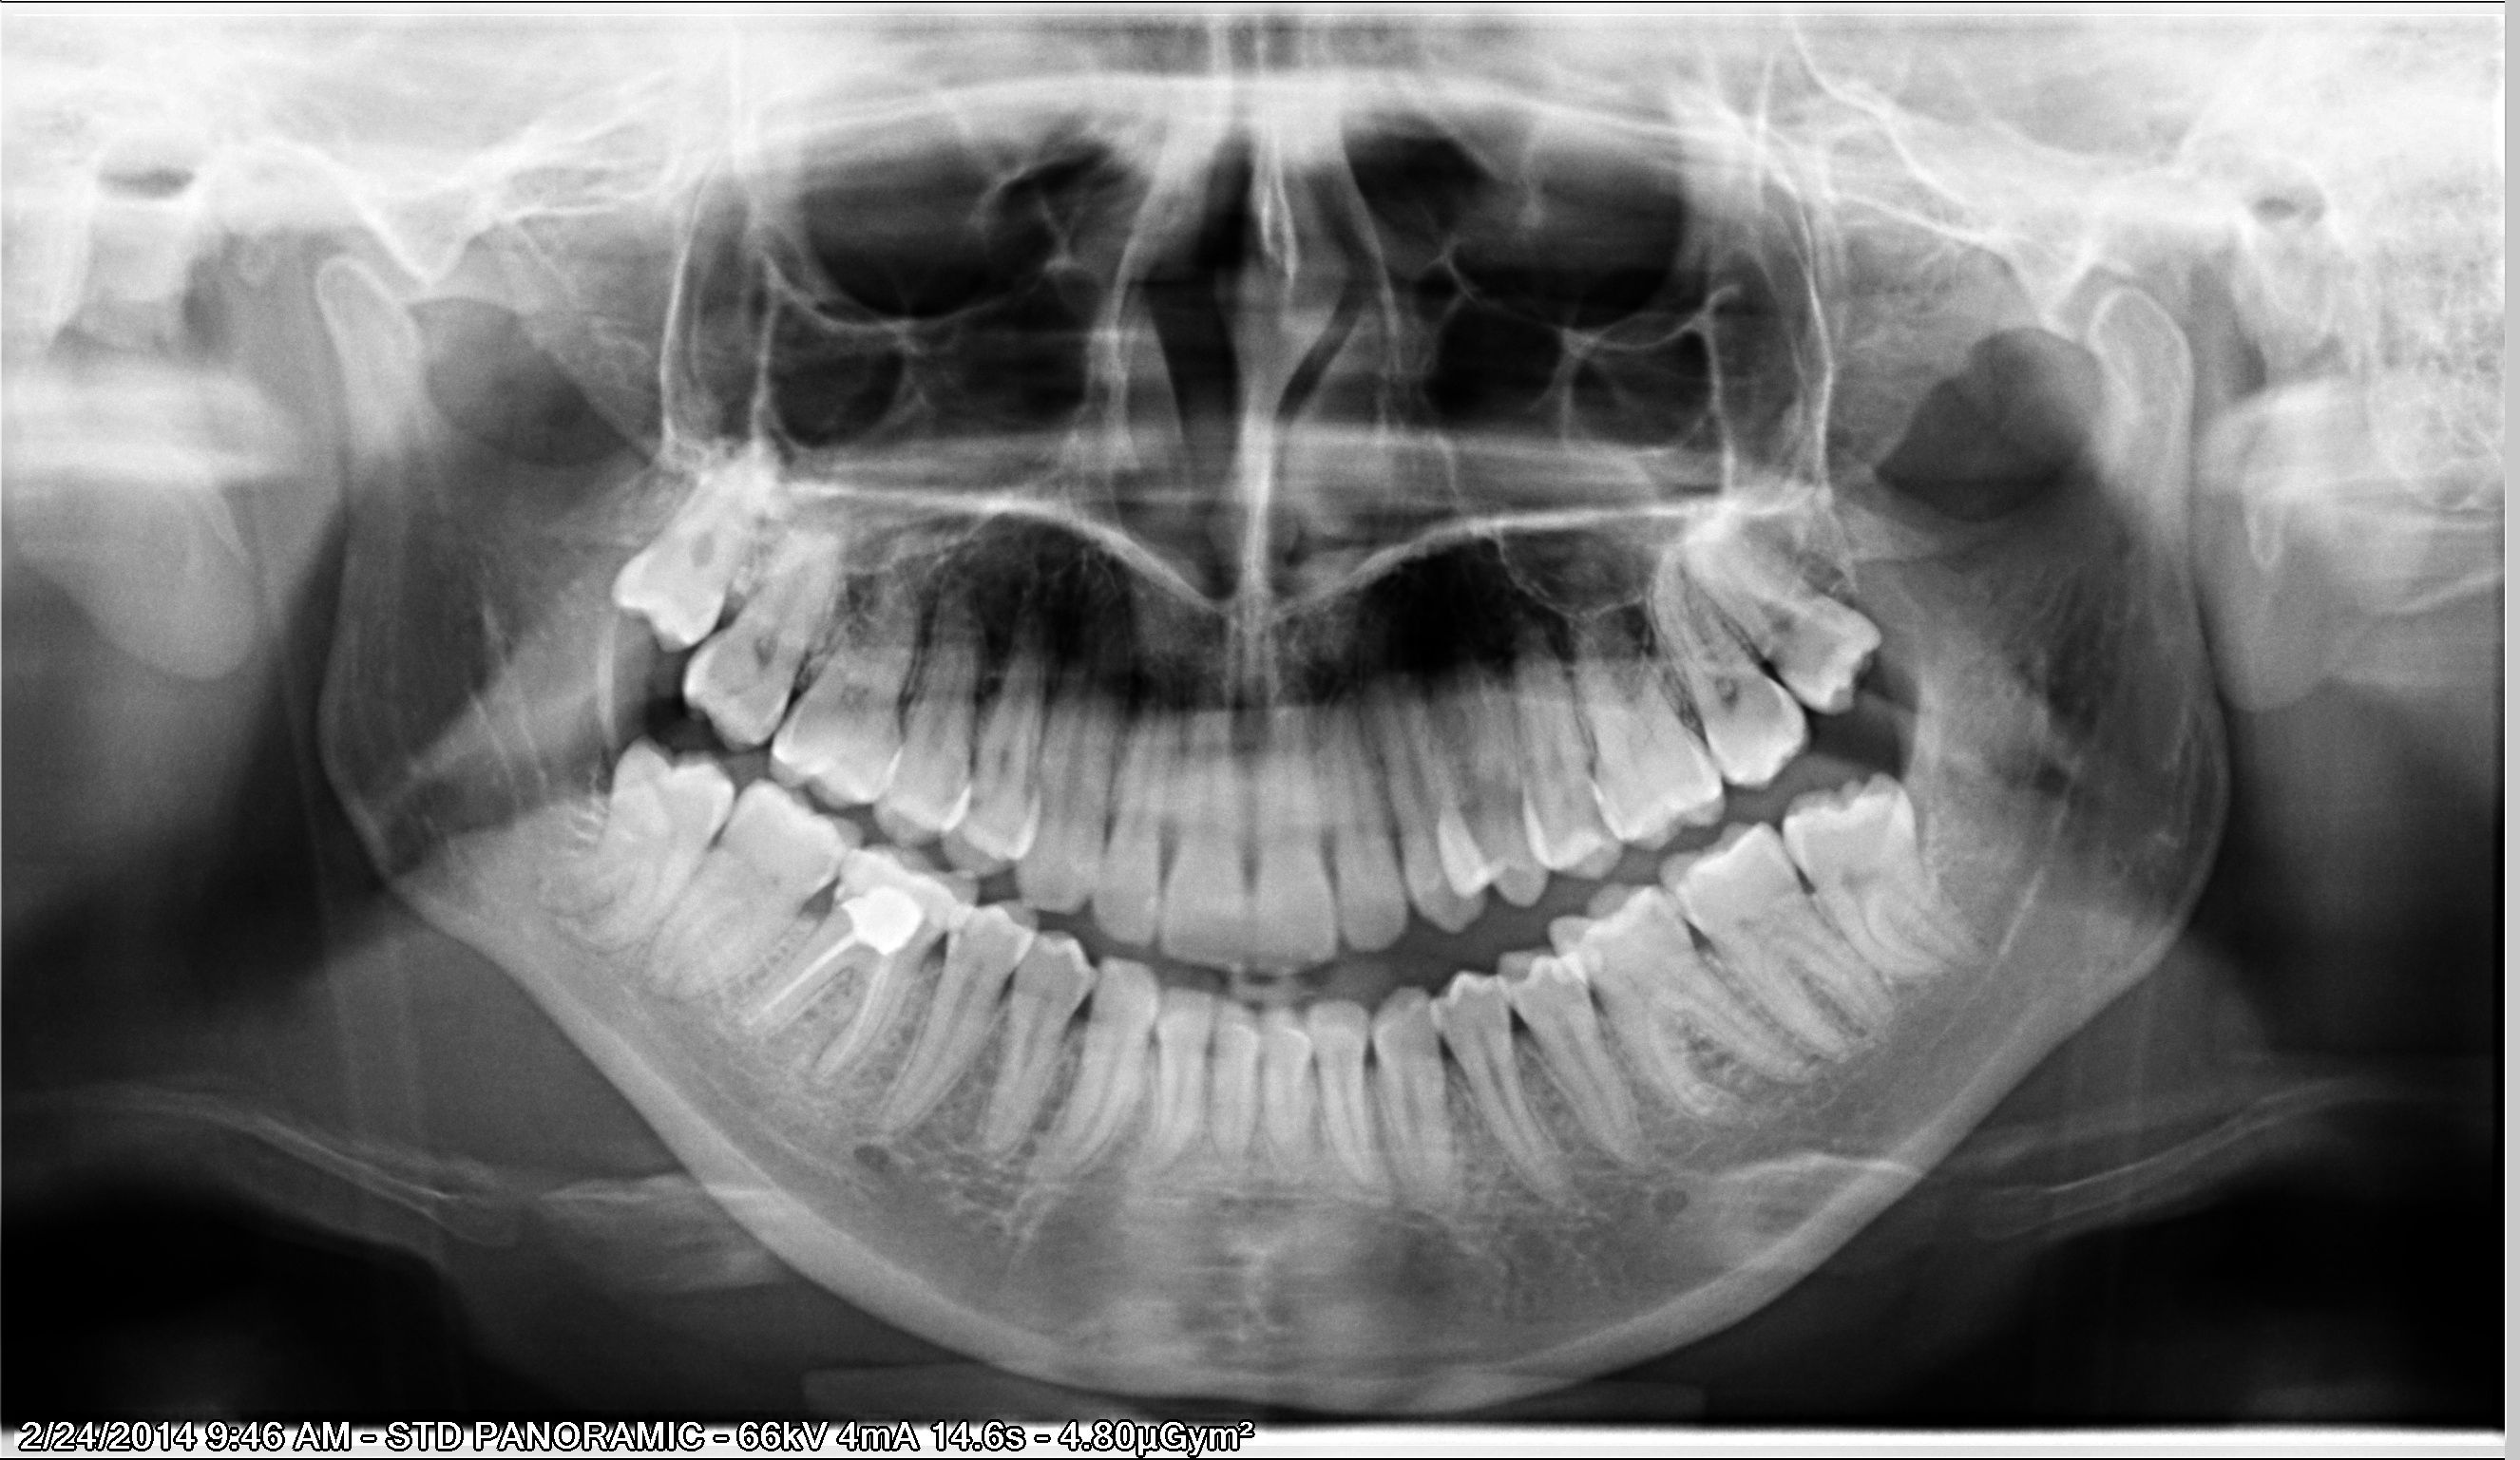END: (716, 925, 912, 1097)
OBT: (843, 866, 945, 952)
